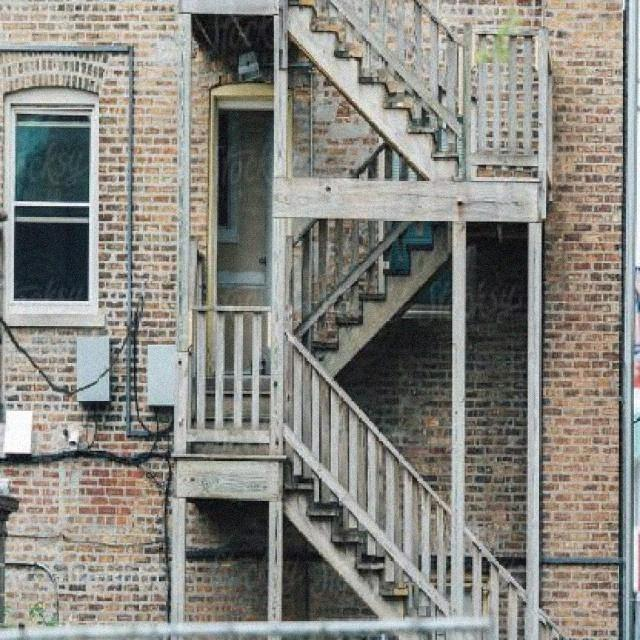stair: (170, 252, 601, 640), (237, 0, 535, 215)
